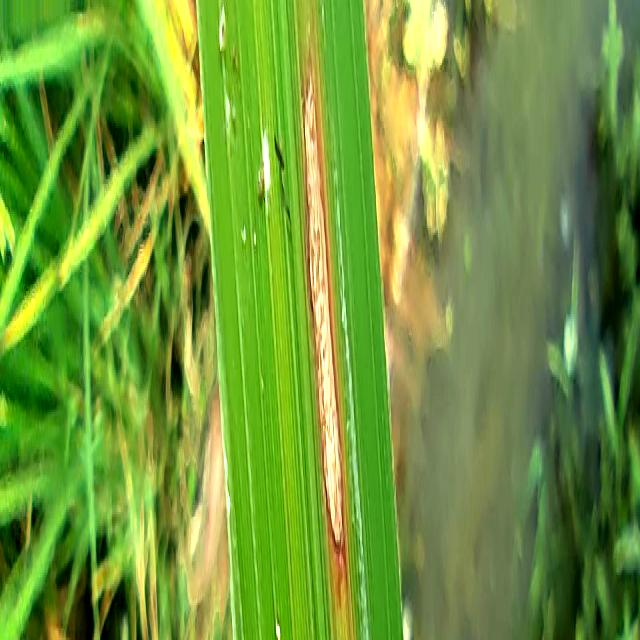LEAF BLAST: (302, 57, 347, 572)
